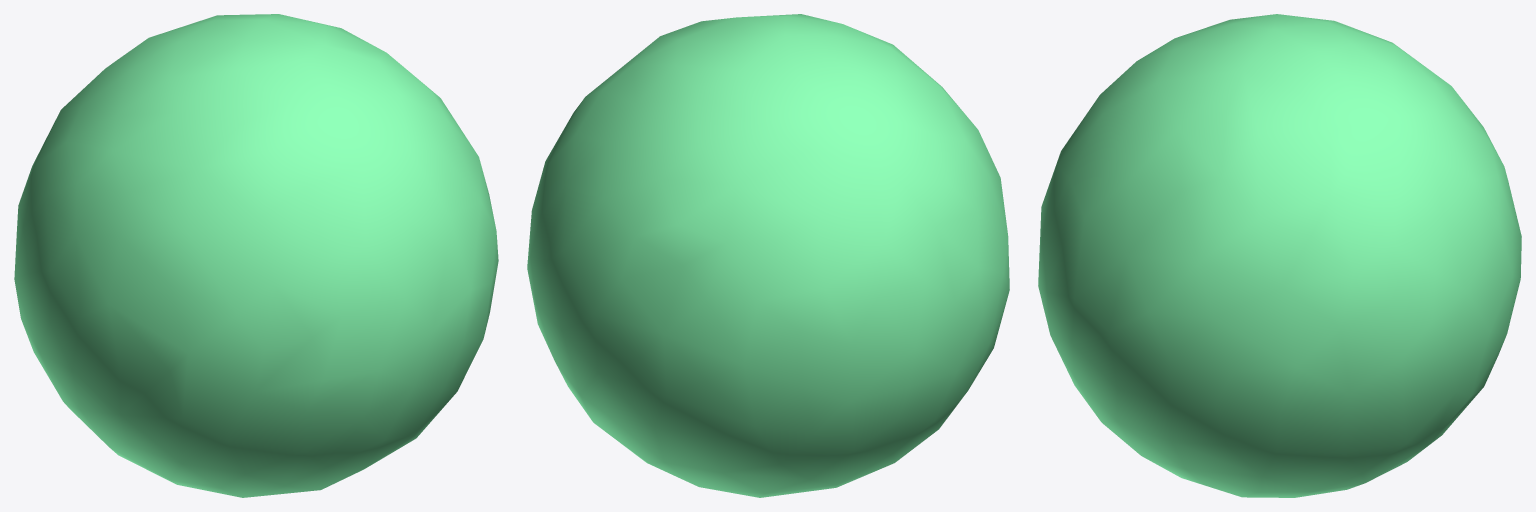
File: Algae.fbx
3 views of the same model, side by side, from view 1: azimuth 30°, elevation 25°; view 2: azimuth 150°, elevation 25°; view 3: azimuth 270°, elevation 25° (orthographic).
Parts seen in each view (by area): view 1: ALGAE (GE-25501); view 2: ALGAE (GE-25501); view 3: ALGAE (GE-25501).
Boxes of the visible parts, box(x1,y1,x2,y2) form: ALGAE (GE-25501): box(14, 14, 498, 497); ALGAE (GE-25501): box(527, 14, 1009, 497); ALGAE (GE-25501): box(1038, 14, 1521, 497).
Bounding box in the file's own units: 40.79 × 40.83 × 40.64.
